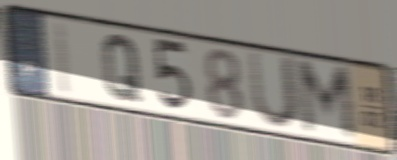5: (152, 35, 194, 114)
8: (202, 46, 246, 122)
I: (51, 18, 75, 99)
M: (293, 58, 359, 145)
Q: (100, 32, 144, 105)
U: (246, 48, 301, 134)
